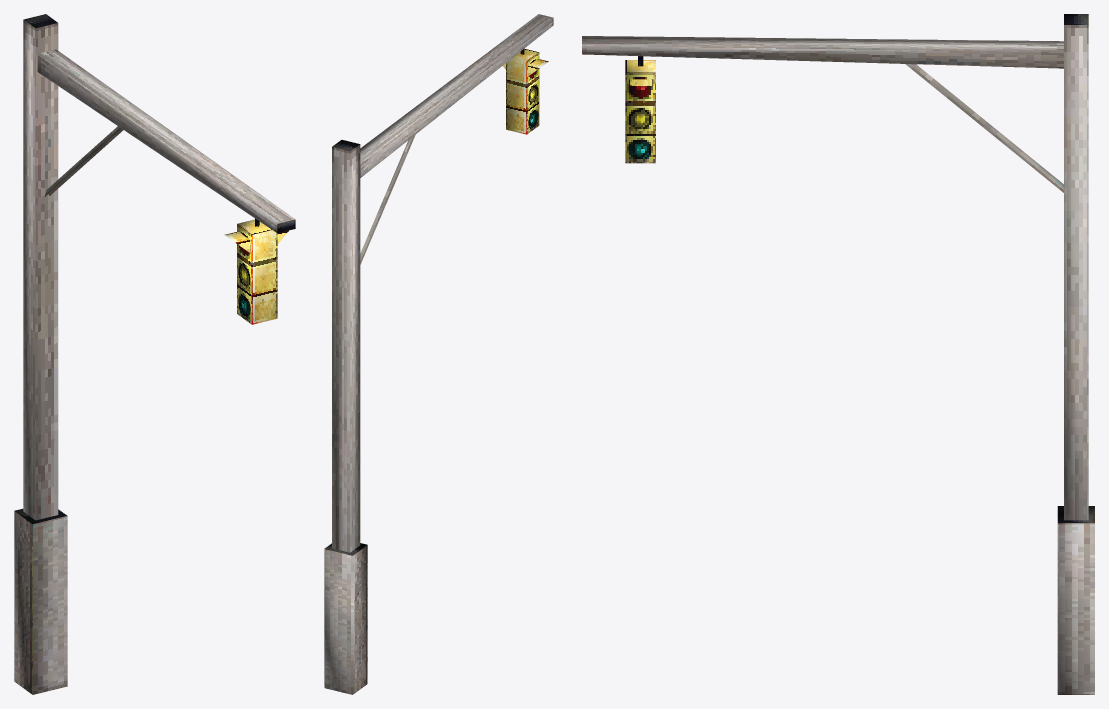
Rendered from Environment - Prop - Stop Light - PEStopLite.glb.
The picture shows the model from 3 angles, left to right: view 1: azimuth 30°, elevation 25°; view 2: azimuth 150°, elevation 25°; view 3: azimuth 270°, elevation 25°; orthographic projection. The views are drawn at different scales.
Parts seen in each view (by area): view 1: PESTOPLITE; view 2: PESTOPLITE; view 3: PESTOPLITE.
Part boxes in pixels (x1=…): PESTOPLITE: x1=14, y1=14, x2=295, y2=694; PESTOPLITE: x1=324, y1=14, x2=553, y2=694; PESTOPLITE: x1=582, y1=14, x2=1094, y2=694.
Size of the model in its own units: 2.53 by 30.5 by 21.26.
1 material, 1 textured.
